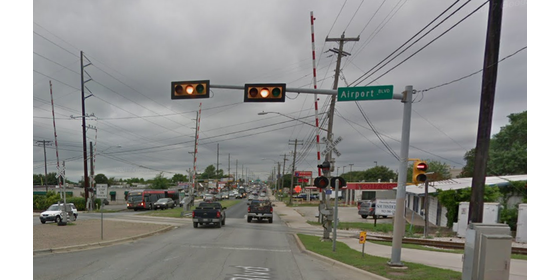street name sign: (332, 85, 399, 102)
